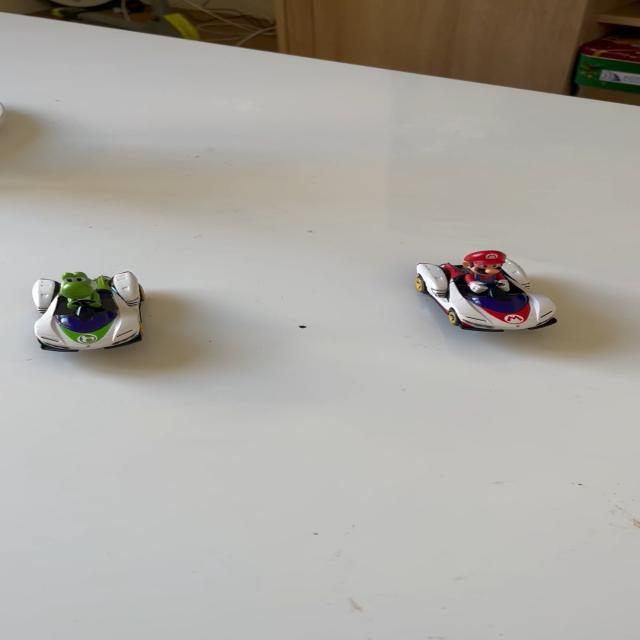mario: (403, 240, 587, 340)
yoshi: (23, 262, 149, 355)
